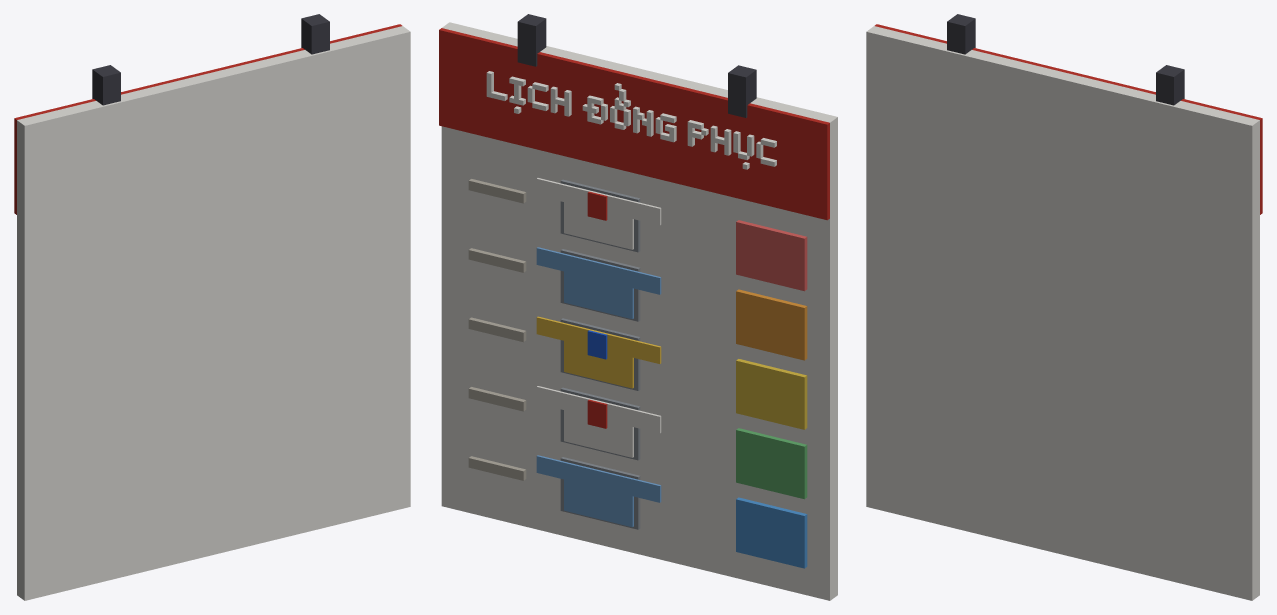
The model's file is ncb-uniform-calendar.glb.
The picture shows the model from 3 angles, left to right: view 1: azimuth 30°, elevation 25°; view 2: azimuth 150°, elevation 25°; view 3: azimuth 330°, elevation 25°; orthographic projection.
Visible parts, largest first — view 1: box-prop; view 2: box-prop; view 3: box-prop.
Part boxes in pixels (bbox=[...]): box-prop: bbox=[14, 14, 410, 600]; box-prop: bbox=[439, 14, 837, 600]; box-prop: bbox=[866, 14, 1262, 600].
Size of the model in its own units: 1.7 by 2.12 by 0.1.
